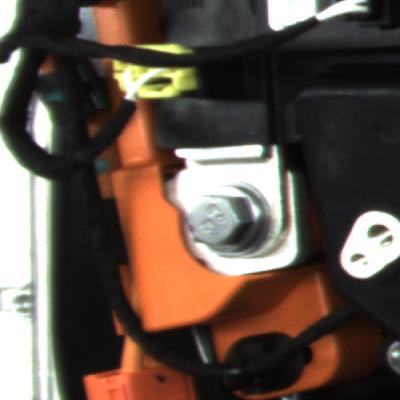nut_b: (171, 181, 275, 265)
